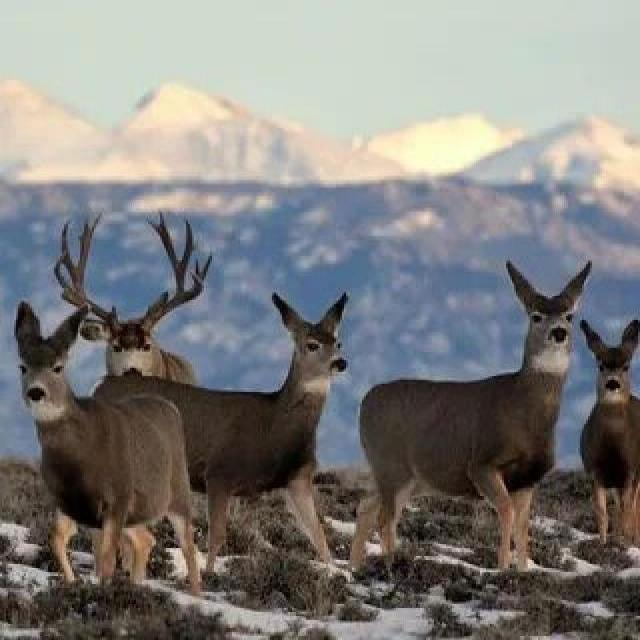deer: (135, 296, 431, 580), (415, 279, 640, 581), (0, 283, 214, 574), (583, 346, 640, 505)
